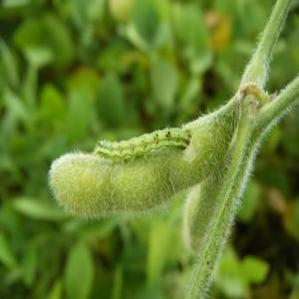Cotton bollworm: (76, 114, 204, 180)
